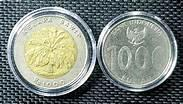coin_1000_e2010: (102, 17, 172, 88)
